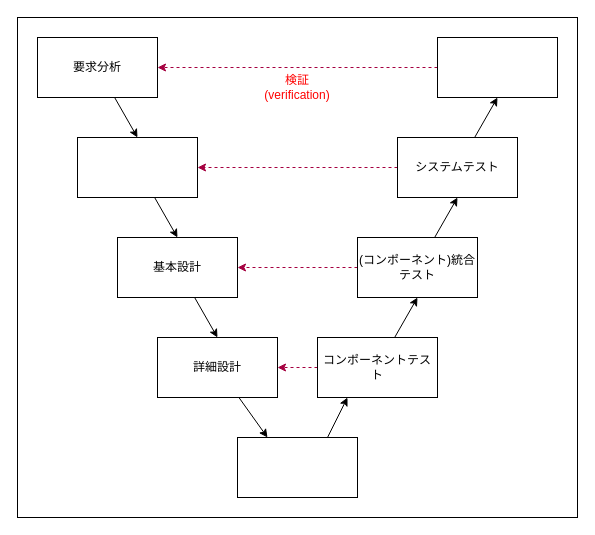
This 595x535 diagram has some shape labels left out. The shapes that lost their labels are listed below. From the top down, each one's centre as x and y in pixels, then its label:
At [497,67]: "受け入れテスト".
At [137,167]: "要件定義".
At [297,467]: "コーディング".
